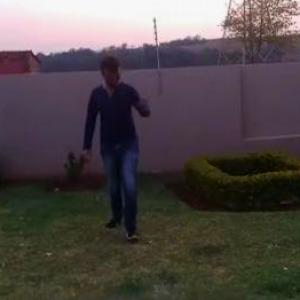takeoff-hand: (132, 85, 156, 117)
